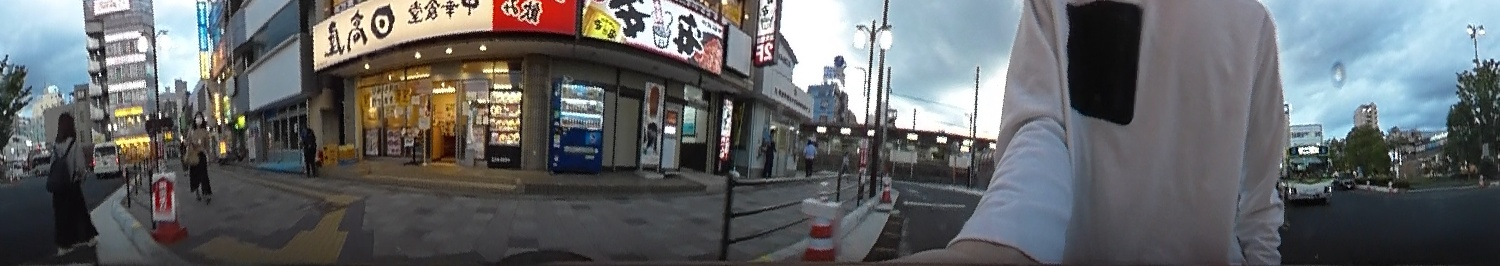difficult_person: (297, 118, 316, 173), (758, 128, 776, 180), (801, 139, 816, 180), (840, 147, 853, 175)
person: (43, 111, 97, 250), (181, 111, 219, 198)
